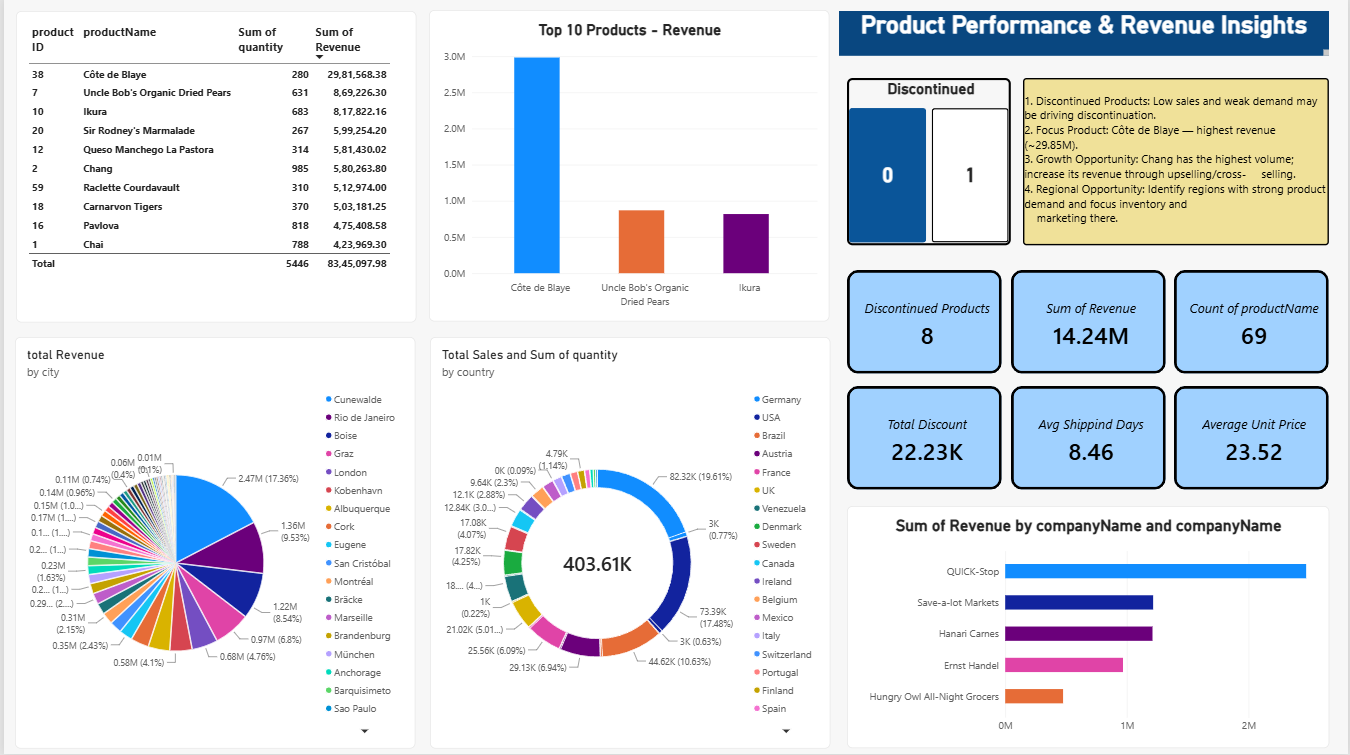

The page's visual inventory and layout, read from the dashboard file:
{"tool":"powerbi","page":{"name":"Product perform in each region","canvas":[1920,1080],"ordinal":1},"visuals":[{"type":"tableEx","fields":{"Values":["Fact_order_details.productID","Dim_products.productName","Sum(Fact_order_details.quantity)","Sum(Fact_order_details.Revenue)"]},"box":[17.1,18.6,571.9,445],"z":0},{"type":"columnChart","title":"Top 10 Products - Revenue","fields":{"Category":["Dim_products.productName"],"Series":["Dim_products.productName"],"Y":["Sum(Fact_order_details.Revenue)"]},"box":[607.8,16.7,572,445],"z":1000},{"type":"pieChart","fields":{"Category":["Dim_customers.city"],"Y":["Fact_order_details.total Revenue"]},"box":[15.6,484.4,572.2,587.8],"z":2000},{"type":"donutChart","fields":{"Category":["Dim_customers.country"],"Y":["Fact_order_details.Total Sales","Sum(Fact_order_details.quantity)"]},"box":[608,484,572,588],"z":3000},{"type":"barChart","fields":{"Category":["Dim_customers.companyName"],"Series":["Dim_customers.companyName"],"Y":["Sum(Fact_order_details.Revenue)"]},"box":[1204.3,725.7,688.6,345.7],"z":4000},{"type":"advancedSlicerVisual","title":"Discontinued","fields":{"Values":["Dim_products.discontinued"]},"box":[1204.3,114.3,234.3,238.6],"z":5000},{"type":"textbox","box":[1455.7,114.3,437.1,238.6],"z":6000},{"type":"cardVisual","fields":{"Data":["Sum(Fact_order_details.Revenue)"]},"box":[1438.6,388.6,221.4,148.6],"z":7000},{"type":"cardVisual","fields":{"Data":["Fact_order_details.Discontinued Products"]},"box":[1204.3,388.6,221.4,148.6],"z":8000},{"type":"cardVisual","fields":{"Data":["Count(Dim_products.productName)"]},"box":[1671.4,388.6,221.4,148.6],"z":9000},{"type":"cardVisual","fields":{"Data":["Fact_order_details.Total Discount"]},"box":[1204.3,554.3,221.4,148.6],"z":9001},{"type":"cardVisual","fields":{"Data":["Fact_order_details.Avg Shippind Days"]},"box":[1438.6,554.3,221.4,148.6],"z":9002},{"type":"cardVisual","fields":{"Data":["Fact_order_details.Average Unit Price"]},"box":[1671.4,554.3,221.4,148.6],"z":9003},{"type":"textbox","title":"Product Performance & Revenue Insights","box":[1193.1,18.6,700,64.3],"z":9004}]}

Visuals, with their boxes in screenshot pixels (x1, y1, x2, y2), scaled from the page's 1920x1080 canvas onto the 1350x755 screenshot:
tableEx - Fact_order_details.productID x Dim_products.productName: (left=12, top=13, right=414, bottom=324)
"Top 10 Products - Revenue" columnChart: (left=427, top=12, right=830, bottom=323)
pieChart - Dim_customers.city x Fact_order_details.total Revenue: (left=11, top=339, right=413, bottom=750)
donutChart - Dim_customers.country x Fact_order_details.Total Sales: (left=428, top=338, right=830, bottom=749)
barChart - Dim_customers.companyName x Dim_customers.companyName: (left=847, top=507, right=1331, bottom=749)
"Discontinued" advancedSlicerVisual: (left=847, top=80, right=1012, bottom=247)
textbox: (left=1024, top=80, right=1331, bottom=247)
cardVisual - Sum(Fact_order_details.Revenue): (left=1012, top=272, right=1167, bottom=376)
cardVisual - Fact_order_details.Discontinued Products: (left=847, top=272, right=1002, bottom=376)
cardVisual - Count(Dim_products.productName): (left=1175, top=272, right=1331, bottom=376)
cardVisual - Fact_order_details.Total Discount: (left=847, top=387, right=1002, bottom=491)
cardVisual - Fact_order_details.Avg Shippind Days: (left=1012, top=387, right=1167, bottom=491)
cardVisual - Fact_order_details.Average Unit Price: (left=1175, top=387, right=1331, bottom=491)
"Product Performance & Revenue Insights" textbox: (left=839, top=13, right=1331, bottom=58)
